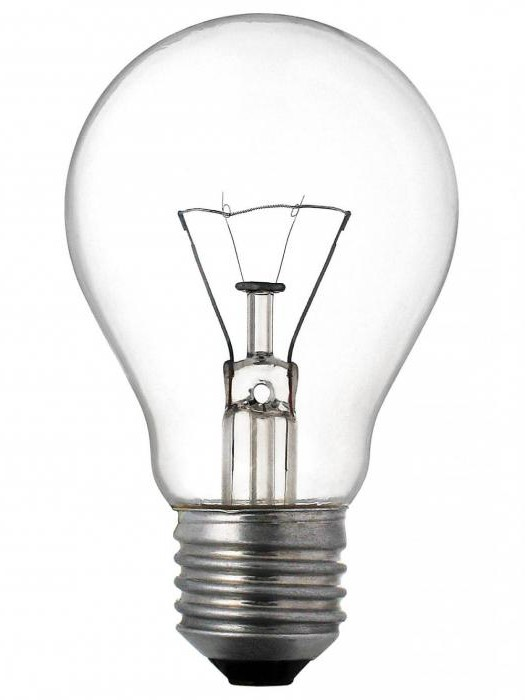Light_bulb: (57, 6, 463, 690)
